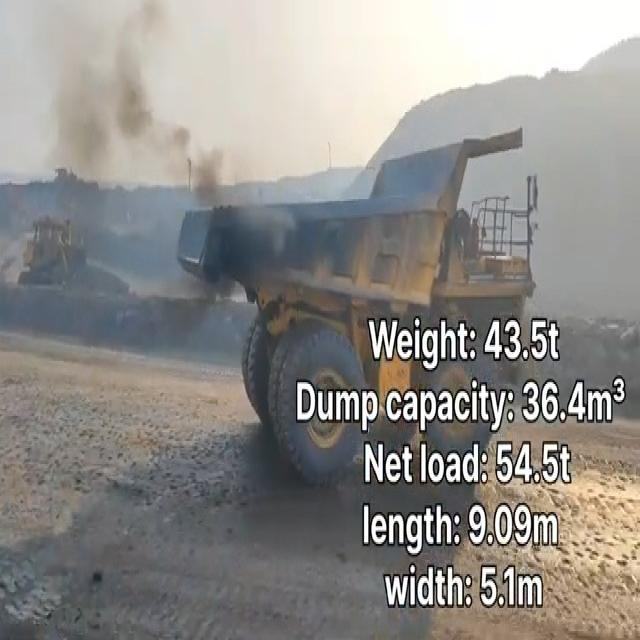dump_truck: (183, 157, 540, 312)
